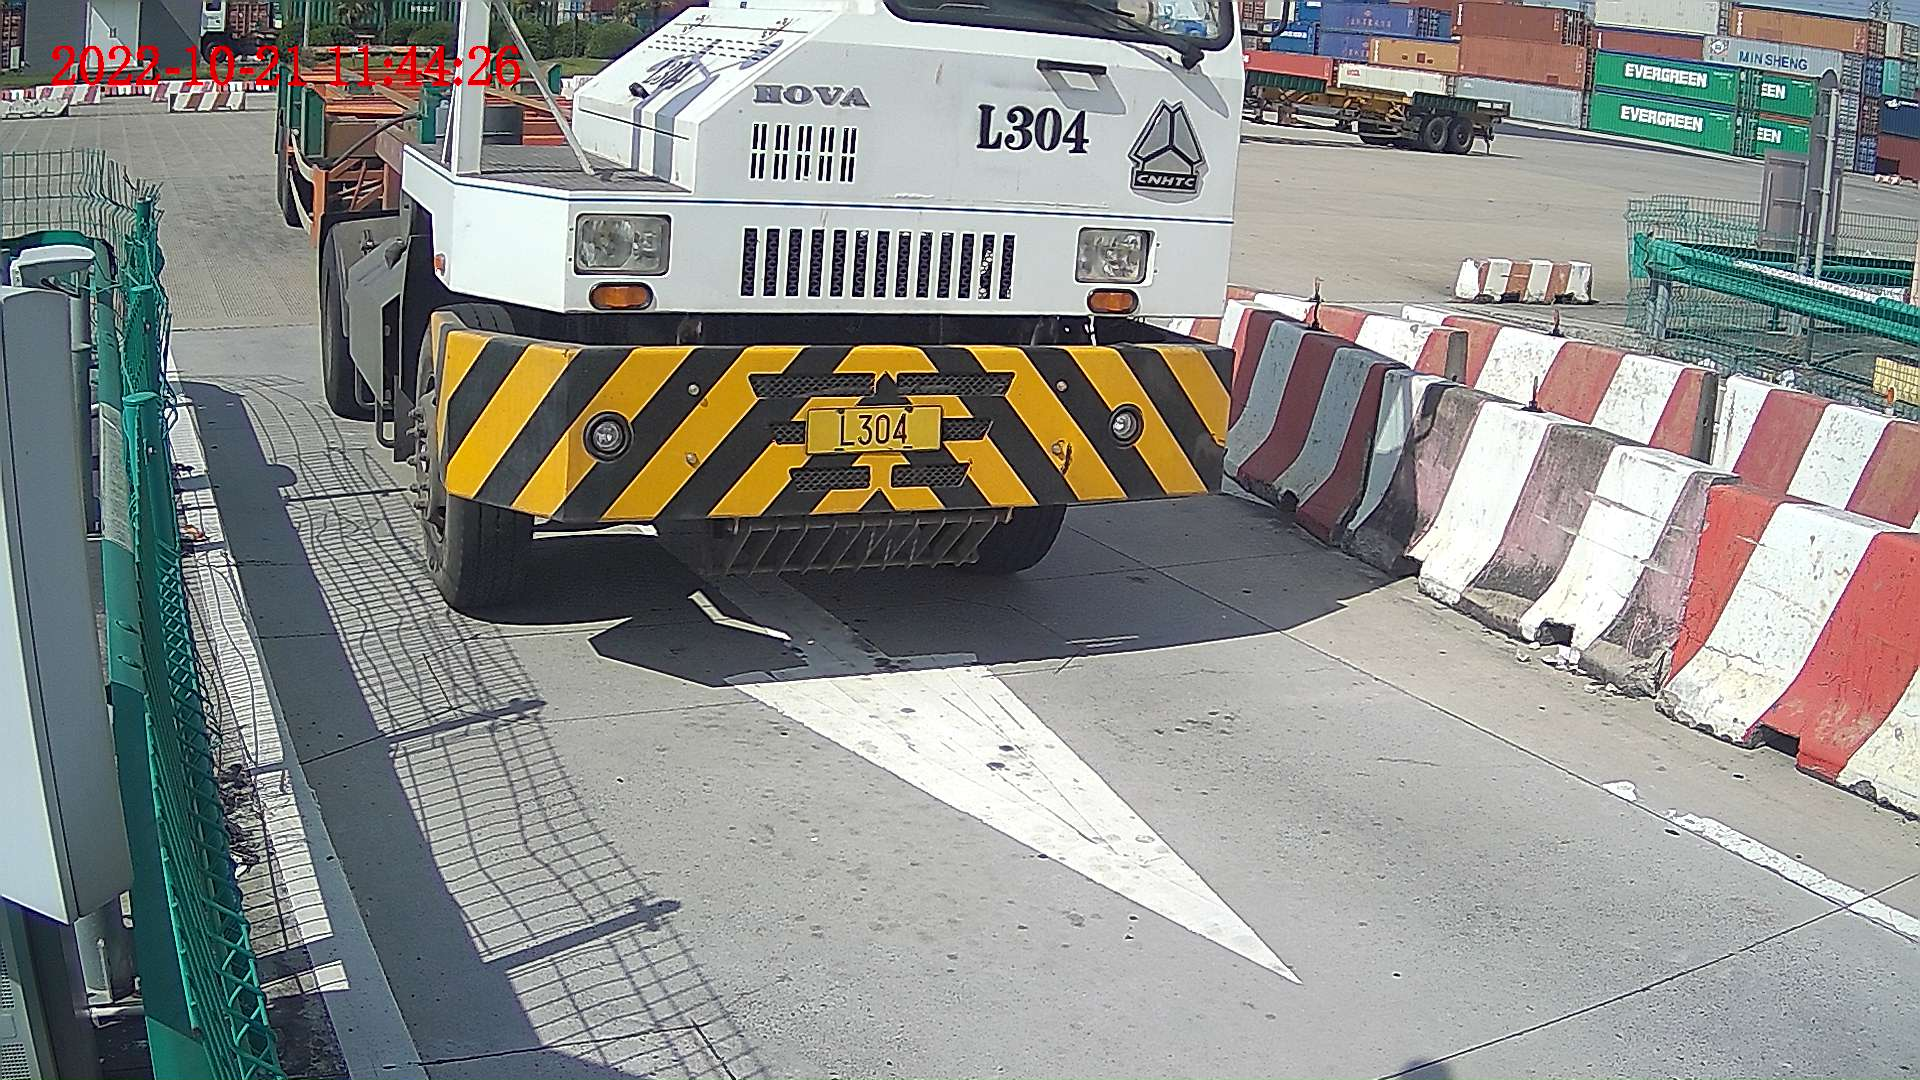head: (400, 1, 1247, 602)
plate: (810, 415, 941, 447)
